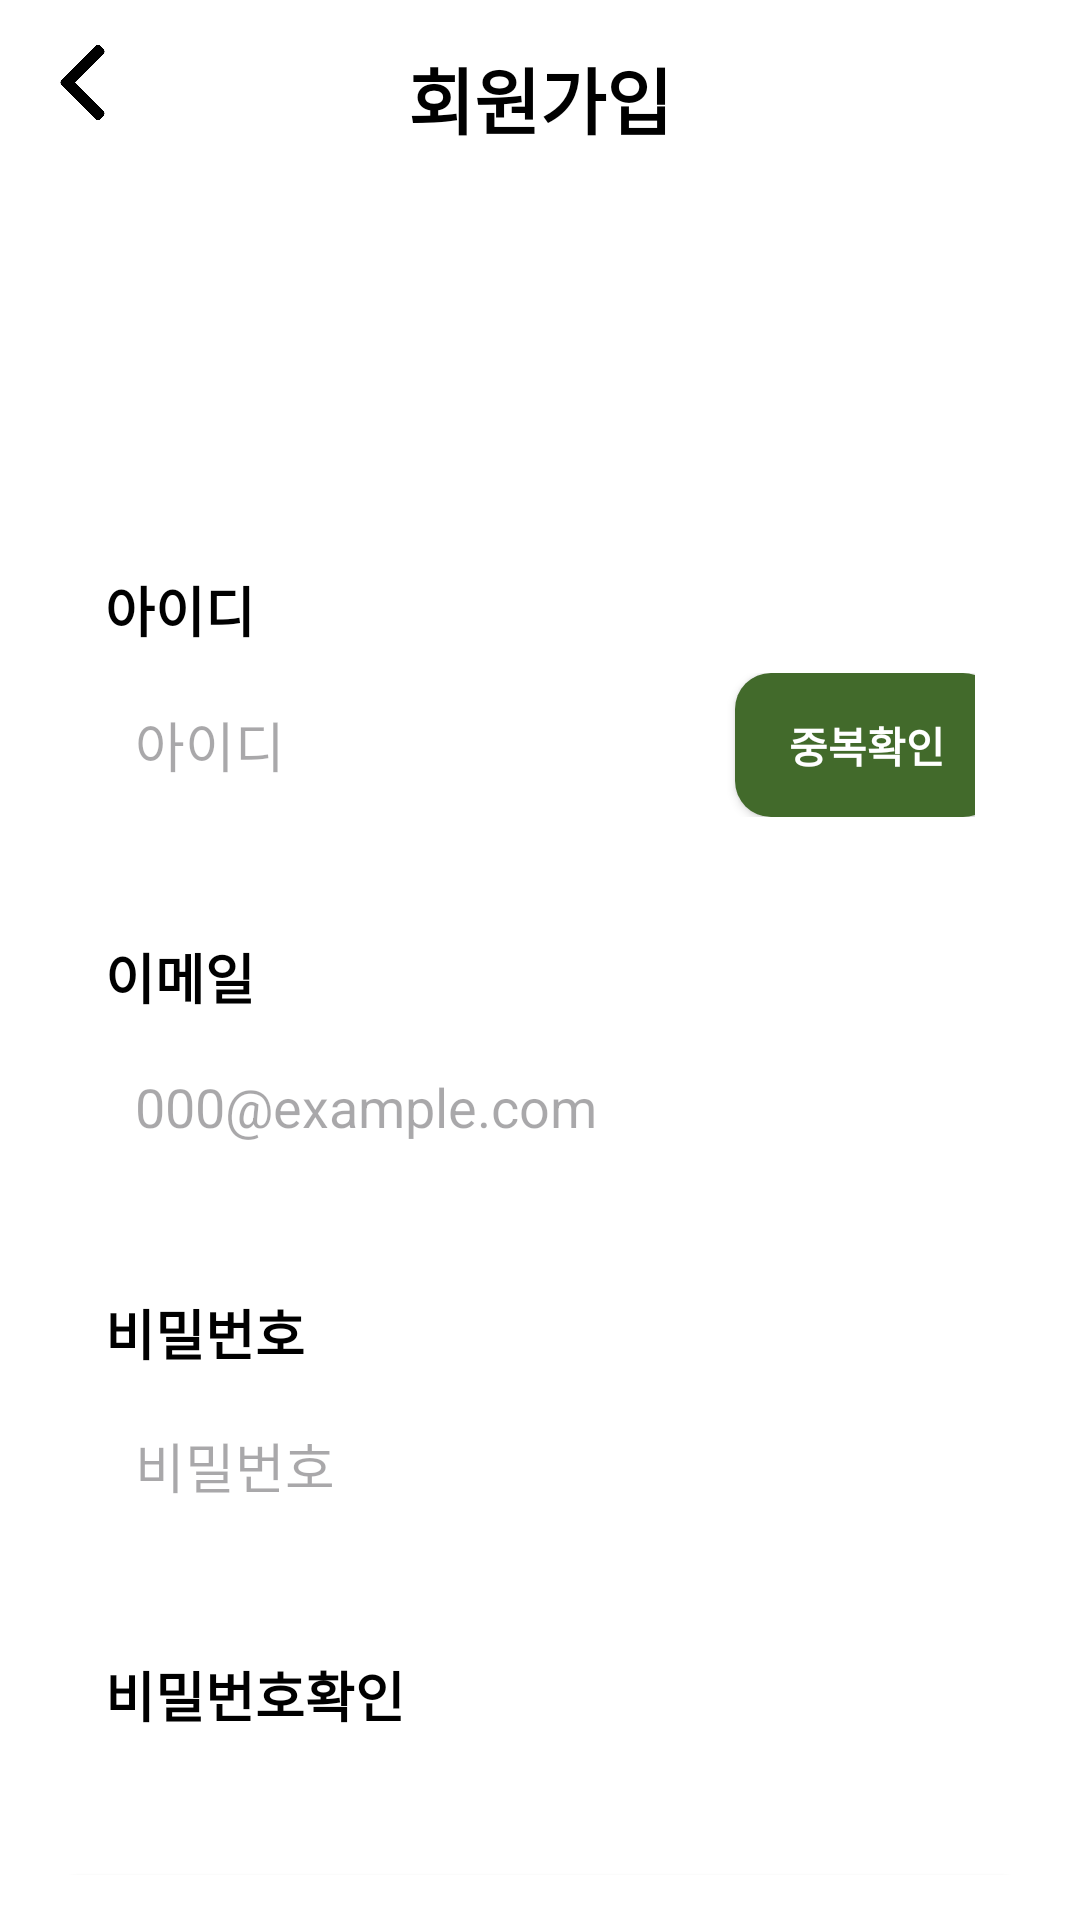

Screen size 1080x1920. Icon name, then its box in pixels as box=[x1, y1, x2, y2]:
left arrow: box=[60, 45, 105, 120]
